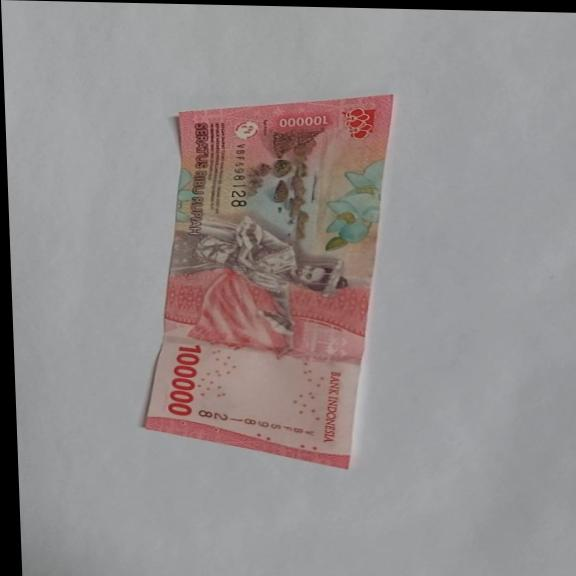Kertas: (164, 343, 206, 417)
